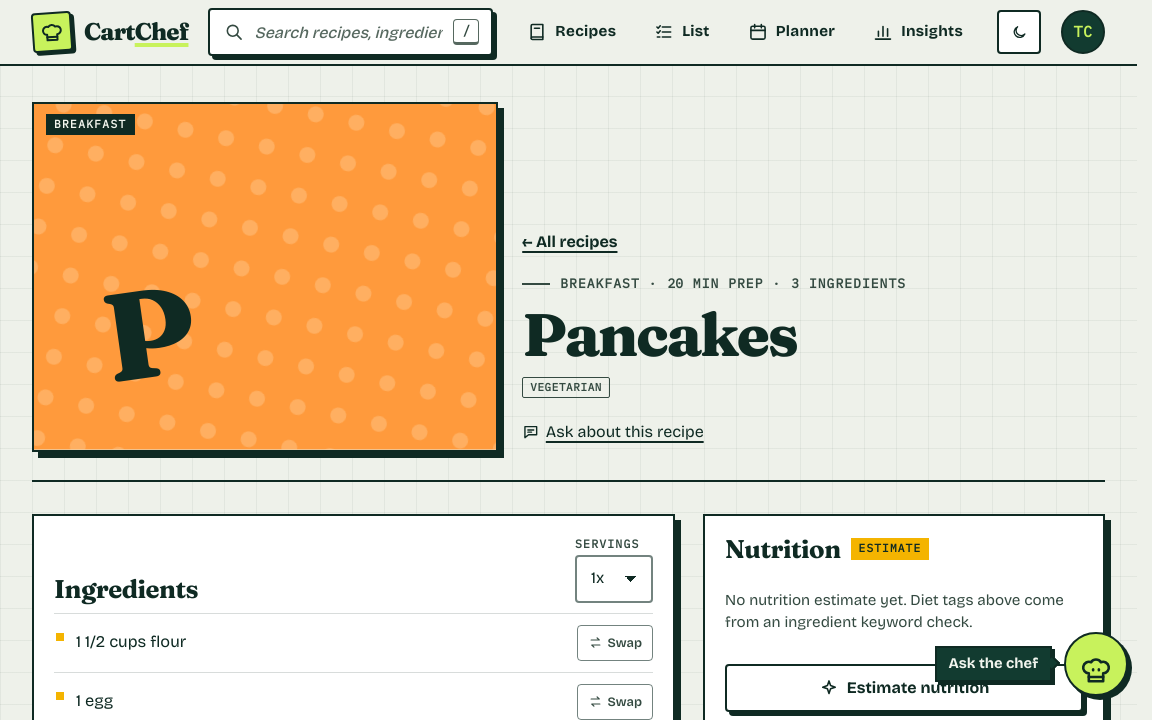
Test: Ask the chef widget › opens about the recipe from the full recipe page
Click the button "Ask about this recipe".
click(613, 432)  # box [522, 412, 704, 452]
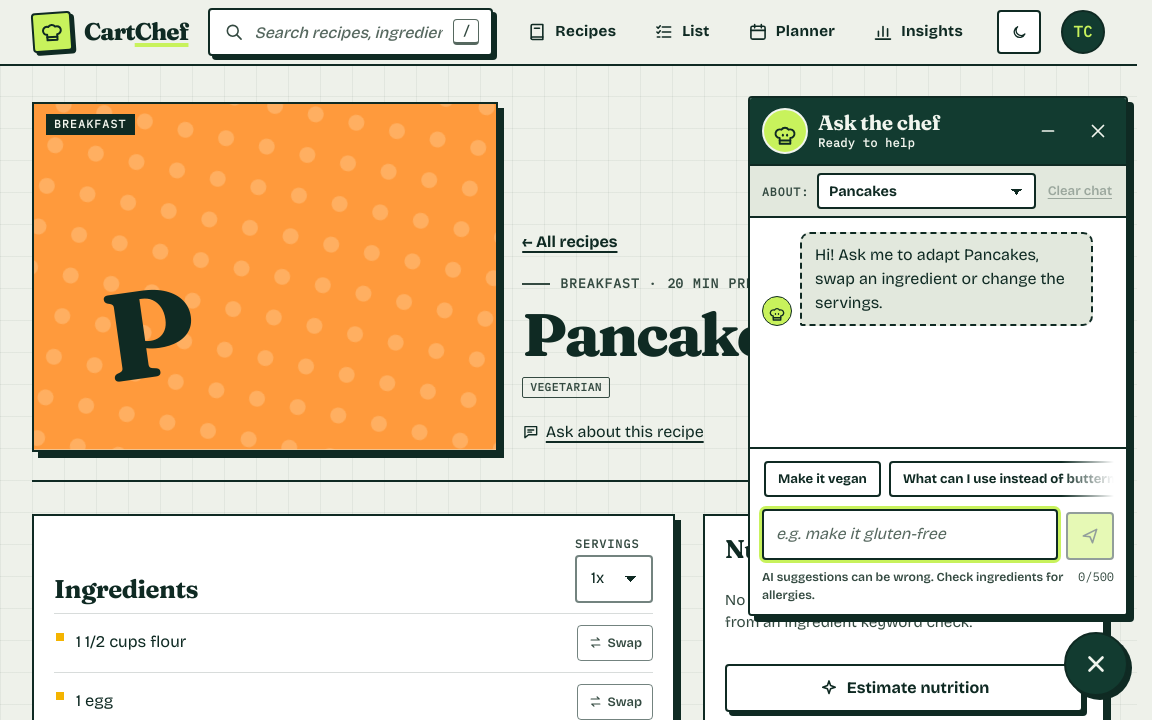
Expected: the dropdown labelled "About:" shows "Pancakes", [817, 173, 1036, 209]
